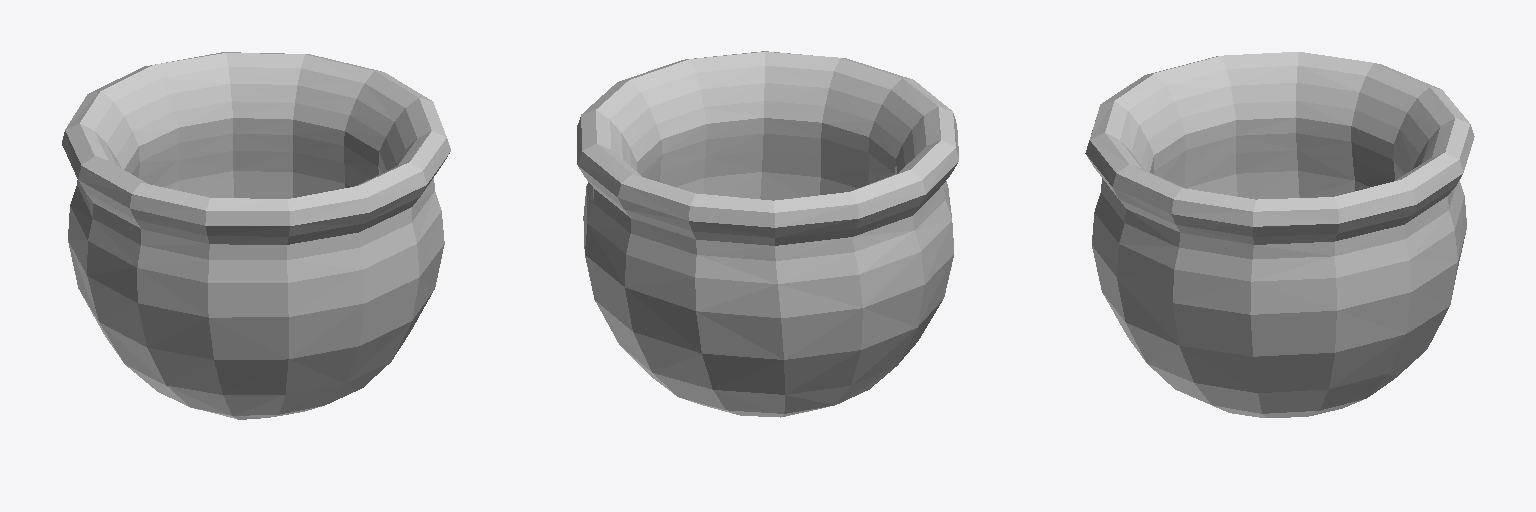
File: cauldren obj.OBJ
3 views of the same model, side by side, from view 1: azimuth 30°, elevation 25°; view 2: azimuth 150°, elevation 25°; view 3: azimuth 270°, elevation 25° (orthographic).
Visible parts, largest first — view 1: Group1; view 2: Group1; view 3: Group1.
Part boxes in pixels (x1,y1,x2,y2): Group1: (62, 52, 450, 419); Group1: (577, 51, 958, 417); Group1: (1085, 52, 1474, 417).
Bounding box in the file's own units: 1.91 × 1.42 × 1.92.